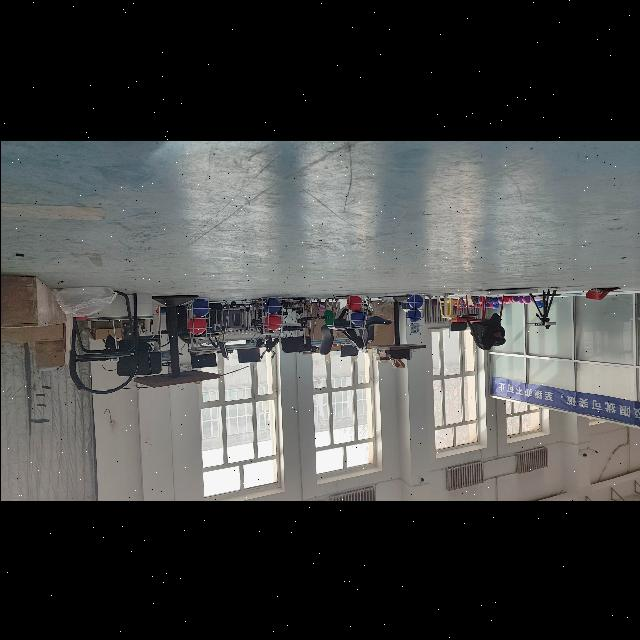B: (262, 296, 280, 312), (191, 297, 207, 315), (406, 306, 419, 322), (351, 310, 364, 324), (408, 294, 422, 306)
R: (187, 314, 206, 334), (264, 313, 282, 329), (346, 294, 360, 310)
S: (184, 295, 212, 341), (258, 292, 286, 336), (342, 290, 366, 330), (402, 290, 426, 326)
